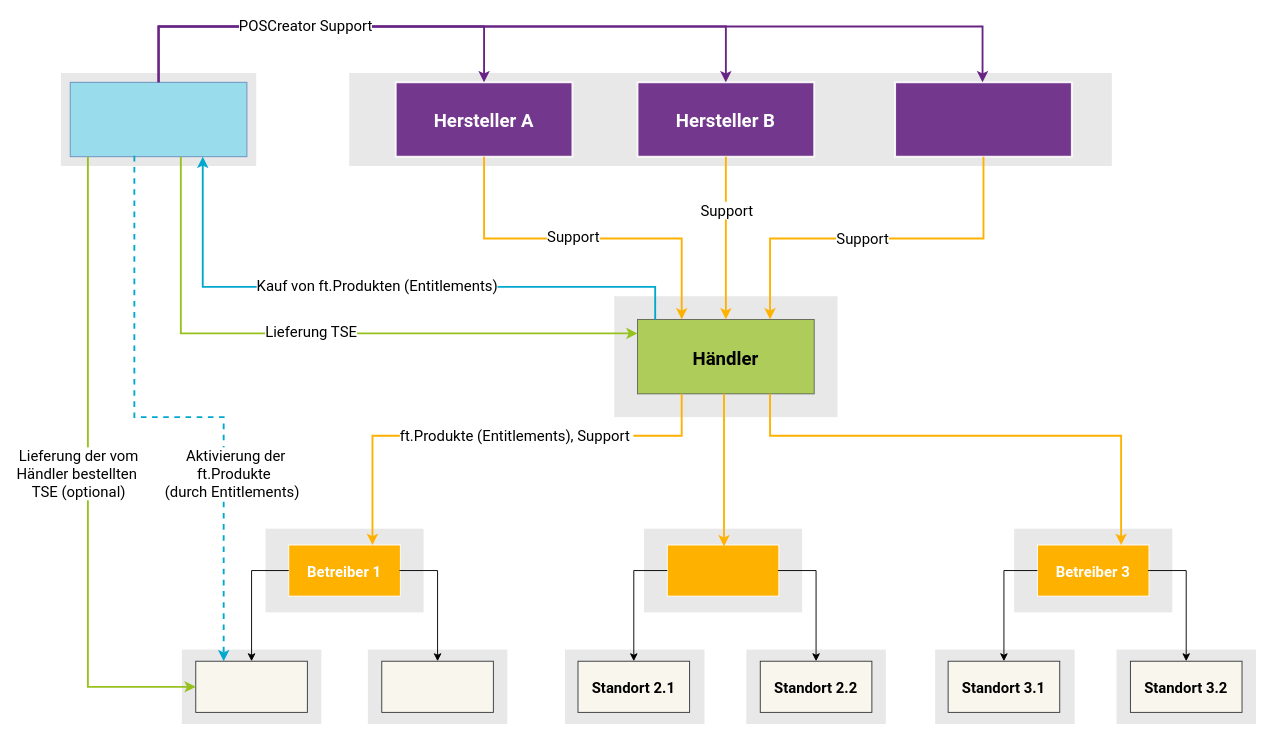
Image size: 1272x739. Some labels were removed from this diagram. The shapes that lost their labels are listed below. From the top down, each one's centre as x and y in pixels, then its label:
At [158,119]: "fiskaltrust".
At [983,119]: "Hersteller C".
At [722,570]: "Betreiber 2".
At [251,686]: "Standort 1.1".
At [437,686]: "Standort 1.2".
